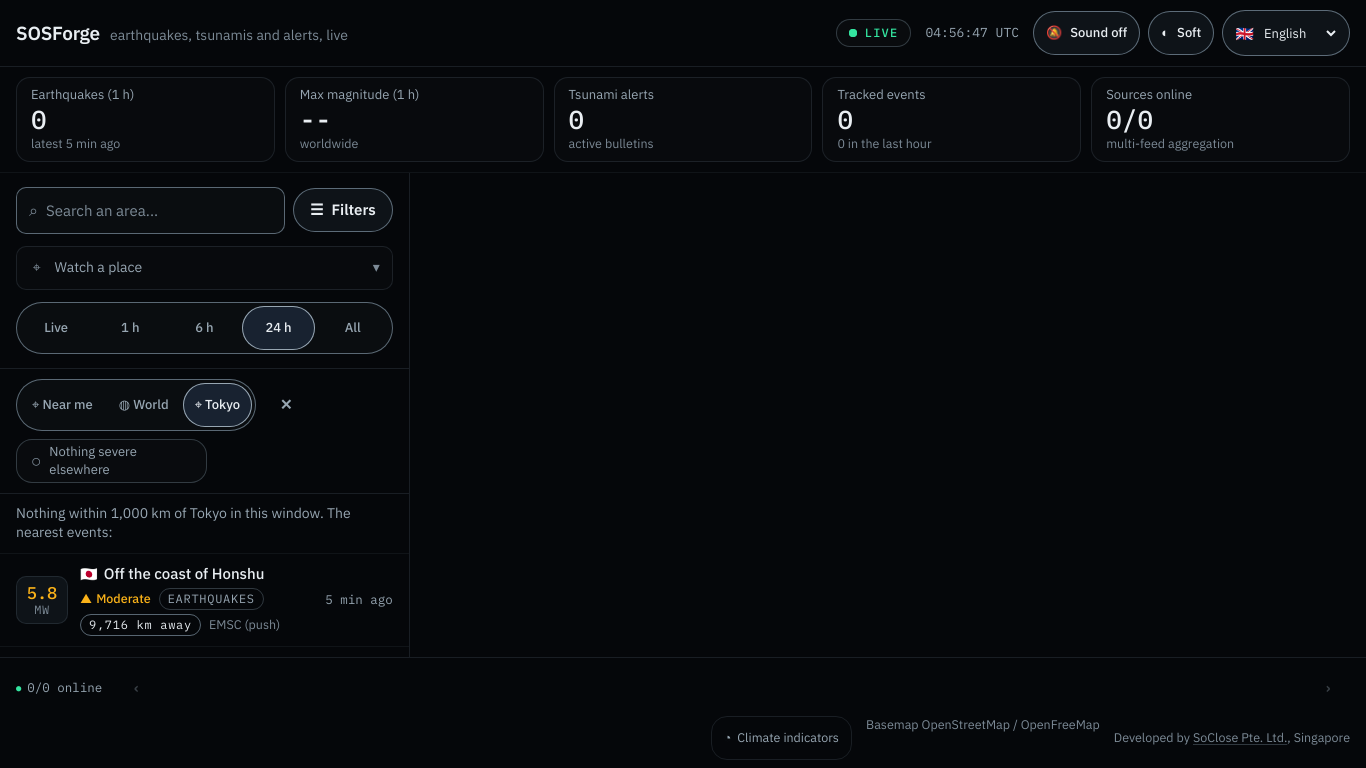
Test: #9: the filter dialog counts what the feed will show › the nearest-events fallback: "Show 2 events", not 0
Click the button "☰ Filters" at (343, 210), box [293, 188, 393, 232]
(page scrolled)
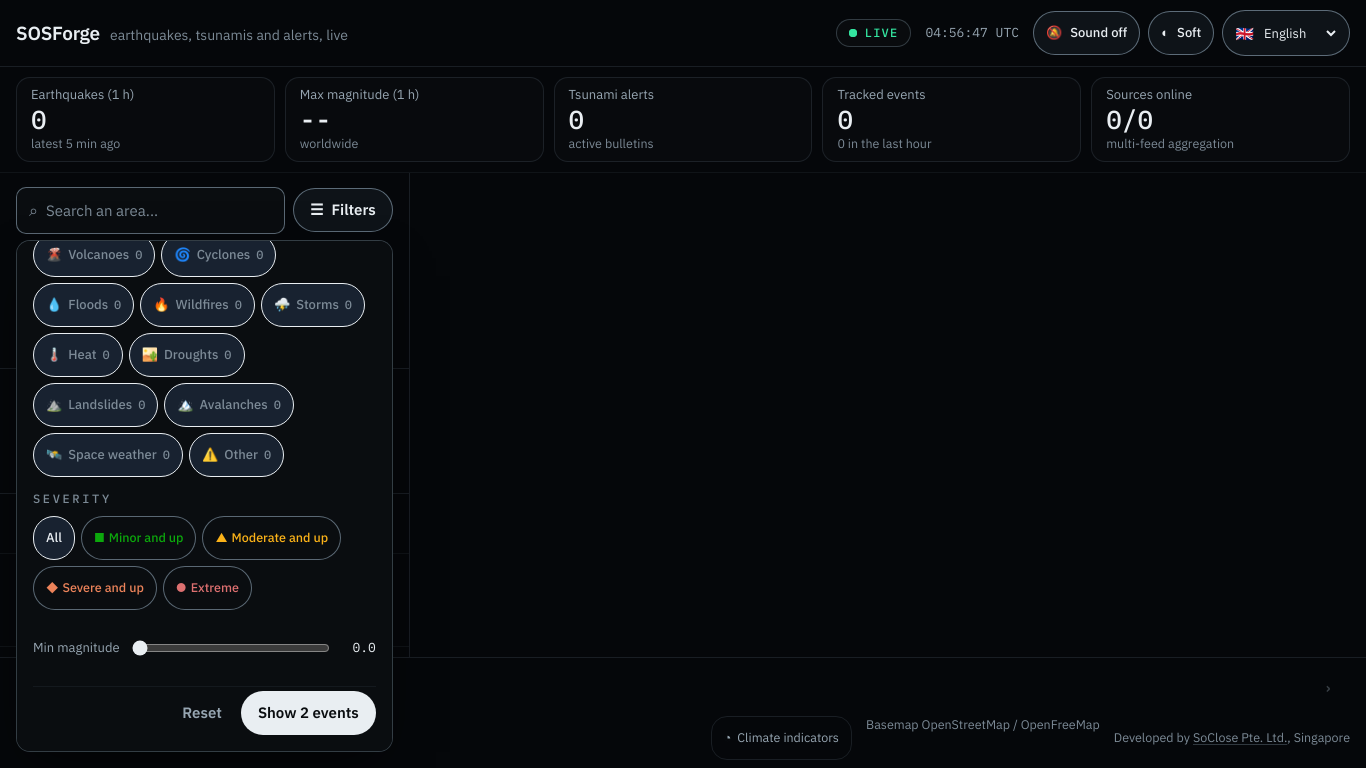
expect the button "Show 2 events" is shown: met, box [241, 691, 376, 735]
